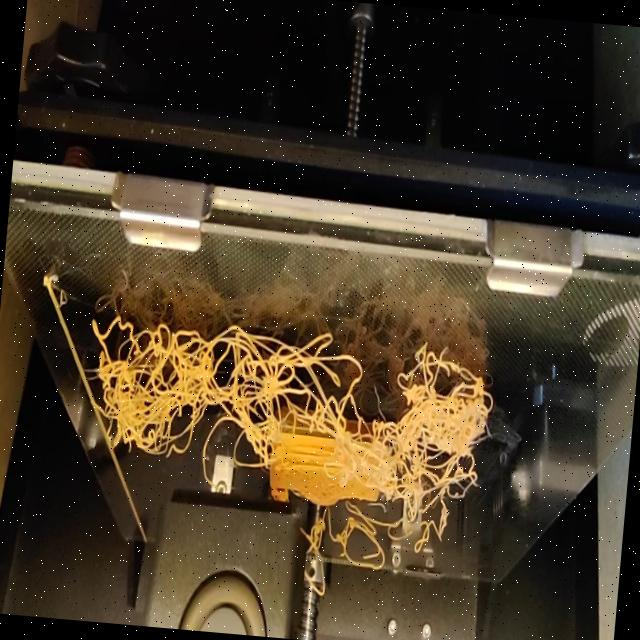spaghetti: (80, 309, 497, 510), (302, 494, 448, 607)
